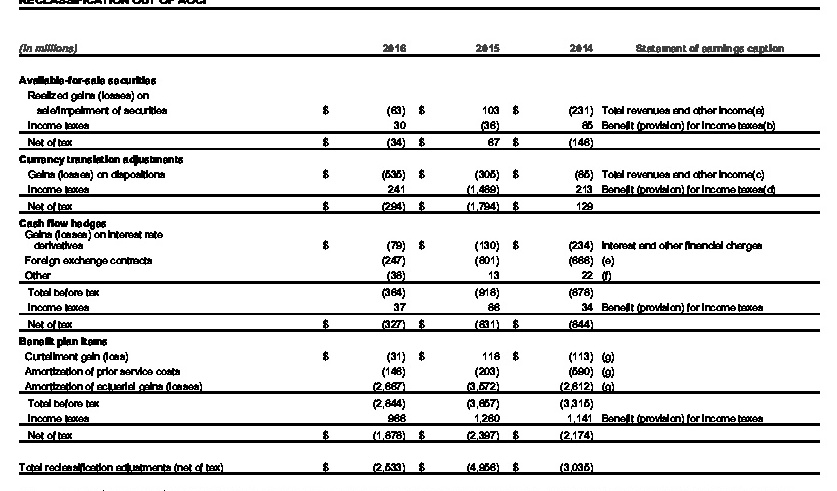table: (0, 0, 837, 491)
